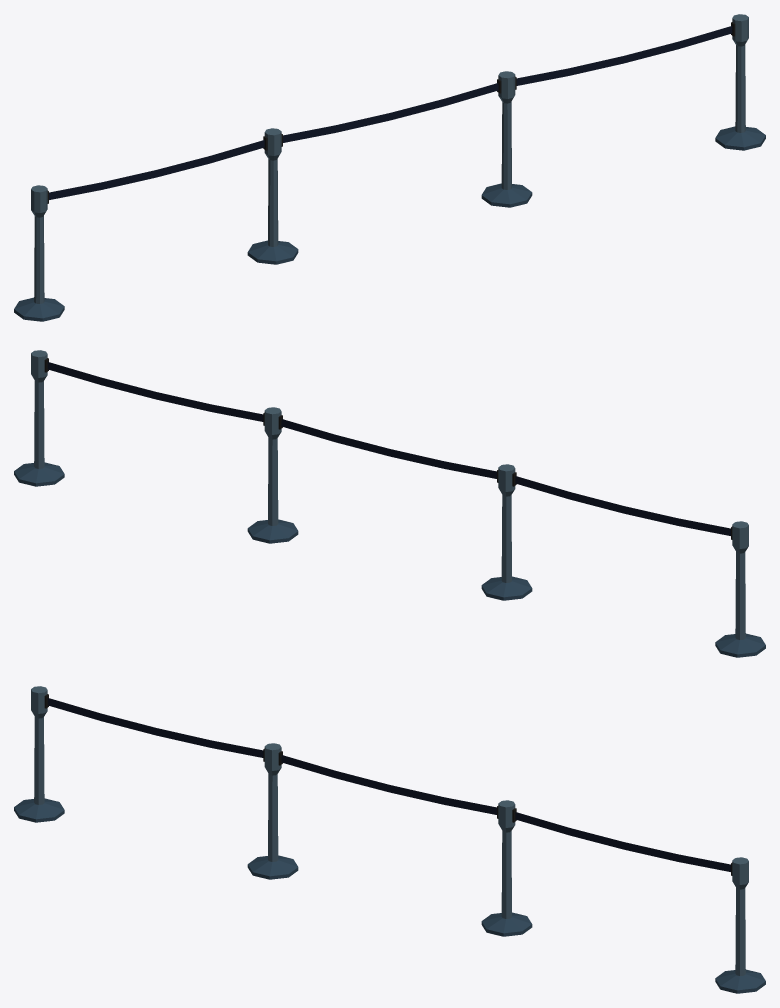
Rendered from barrier.fbx.
3 renders of one model, top to bottom at view 1: azimuth 30°, elevation 25°; view 2: azimuth 150°, elevation 25°; view 3: azimuth 330°, elevation 25°, orthographic.
Visible parts, largest first — view 1: stanchion-run_chrome, stanchion-run_belt, stanchion-run_base; view 2: stanchion-run_chrome, stanchion-run_belt, stanchion-run_base; view 3: stanchion-run_chrome, stanchion-run_belt, stanchion-run_base.
Boxes of the visible parts, x1,y1,x2,y2 form: stanchion-run_chrome: (31,14,748,303); stanchion-run_belt: (49,26,732,199); stanchion-run_base: (14,126,765,321); stanchion-run_chrome: (31,350,748,639); stanchion-run_belt: (47,362,730,535); stanchion-run_base: (14,462,765,657); stanchion-run_chrome: (31,686,748,975); stanchion-run_belt: (47,698,730,871); stanchion-run_base: (14,798,765,993).
Bounding box in the file's own units: 635 × 100 × 35.
